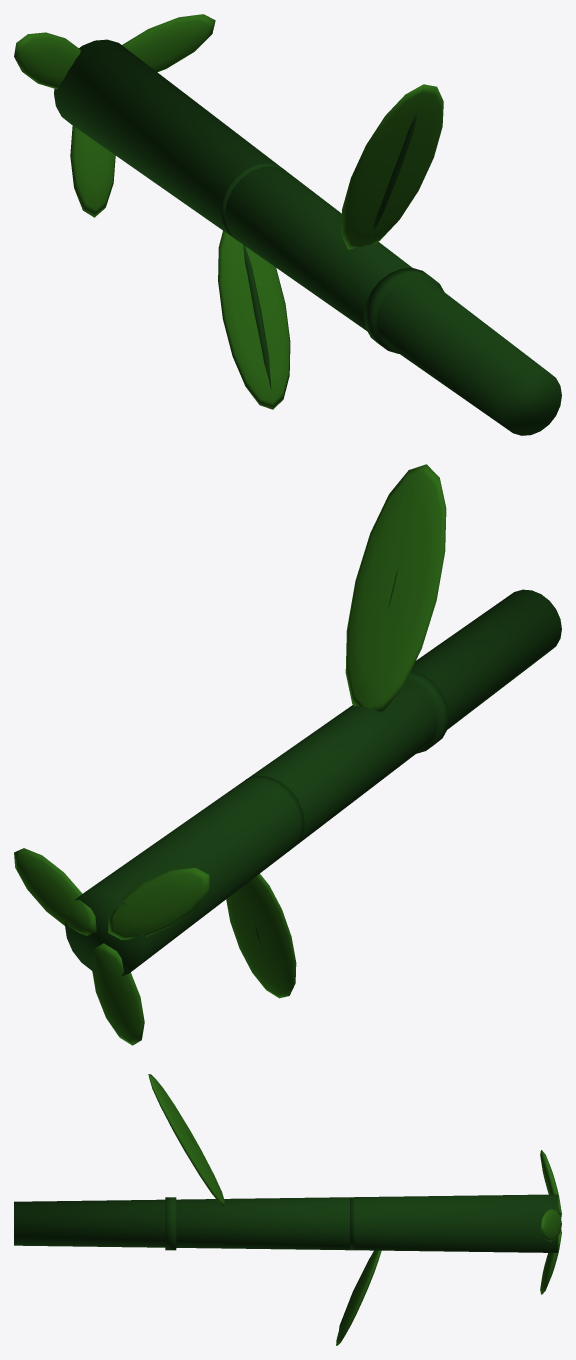
The model's file is camera_mast.obj.
The picture shows the model from 3 angles, top to bottom: view 1: azimuth 30°, elevation 25°; view 2: azimuth 150°, elevation 25°; view 3: azimuth 270°, elevation 25°; orthographic projection. The views are drawn at different scales.
Parts seen in each view (by area): view 1: camera_mast; view 2: camera_mast; view 3: camera_mast.
Boxes of the visible parts, x1,y1,x2,y2 form: camera_mast: (14,14,561,435); camera_mast: (14,464,561,1045); camera_mast: (14,1074,561,1345).
Bounding box in the file's own units: 0.0783 × 0.1625 × 0.2969.
